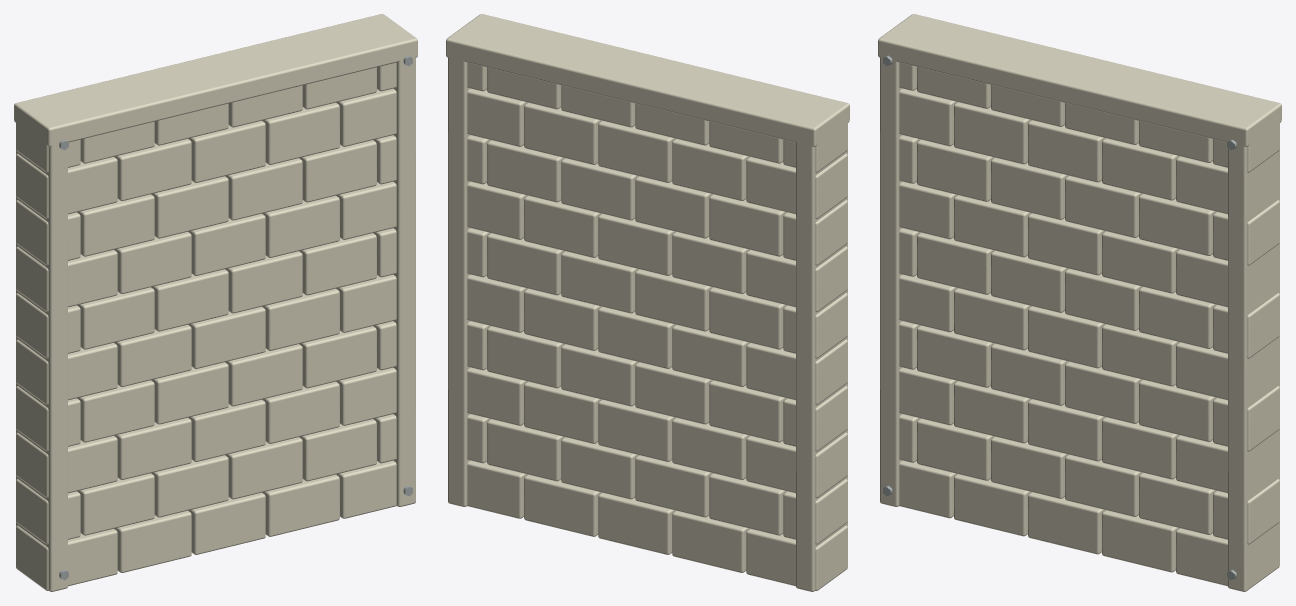
The model's file is modular-survival-base-builder-wall-rubble-masonry-53f8cc0e__24168.glb.
The picture shows the model from 3 angles, left to right: view 1: azimuth 30°, elevation 25°; view 2: azimuth 150°, elevation 25°; view 3: azimuth 330°, elevation 25°; orthographic projection.
Parts seen in each view (by area): view 1: wall-rubble-masonry; view 2: wall-rubble-masonry; view 3: wall-rubble-masonry.
Part boxes in pixels (x1,y1,x2,y2): wall-rubble-masonry: [14, 14, 417, 591]; wall-rubble-masonry: [446, 14, 849, 591]; wall-rubble-masonry: [878, 14, 1281, 591].
Size of the model in its own units: 2 by 2.4 by 0.3654.
